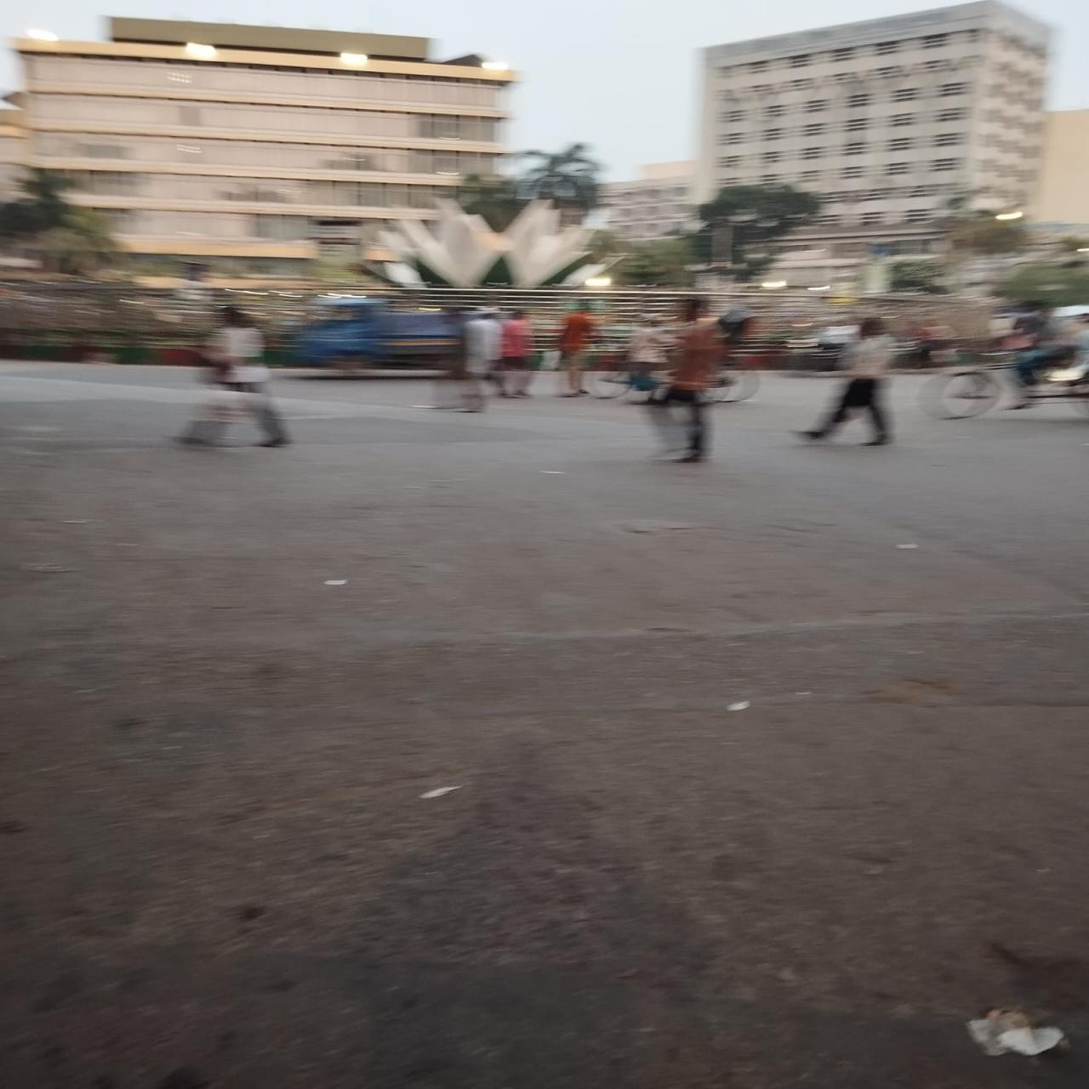person: (181, 288, 292, 453), (645, 293, 728, 465), (799, 318, 893, 455), (455, 309, 541, 404), (556, 300, 596, 399)
